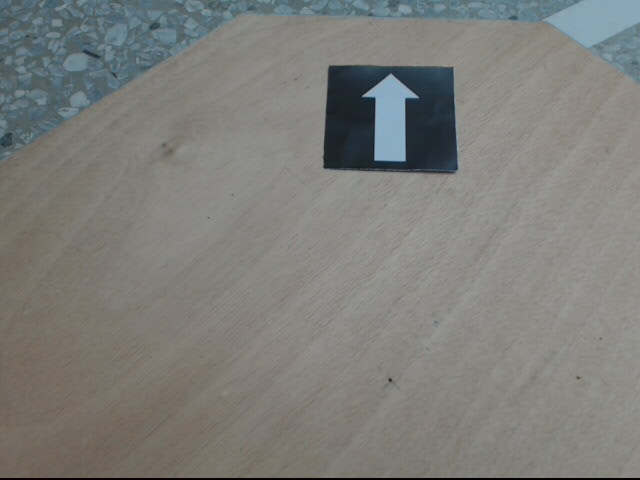straight: (323, 66, 456, 171)
